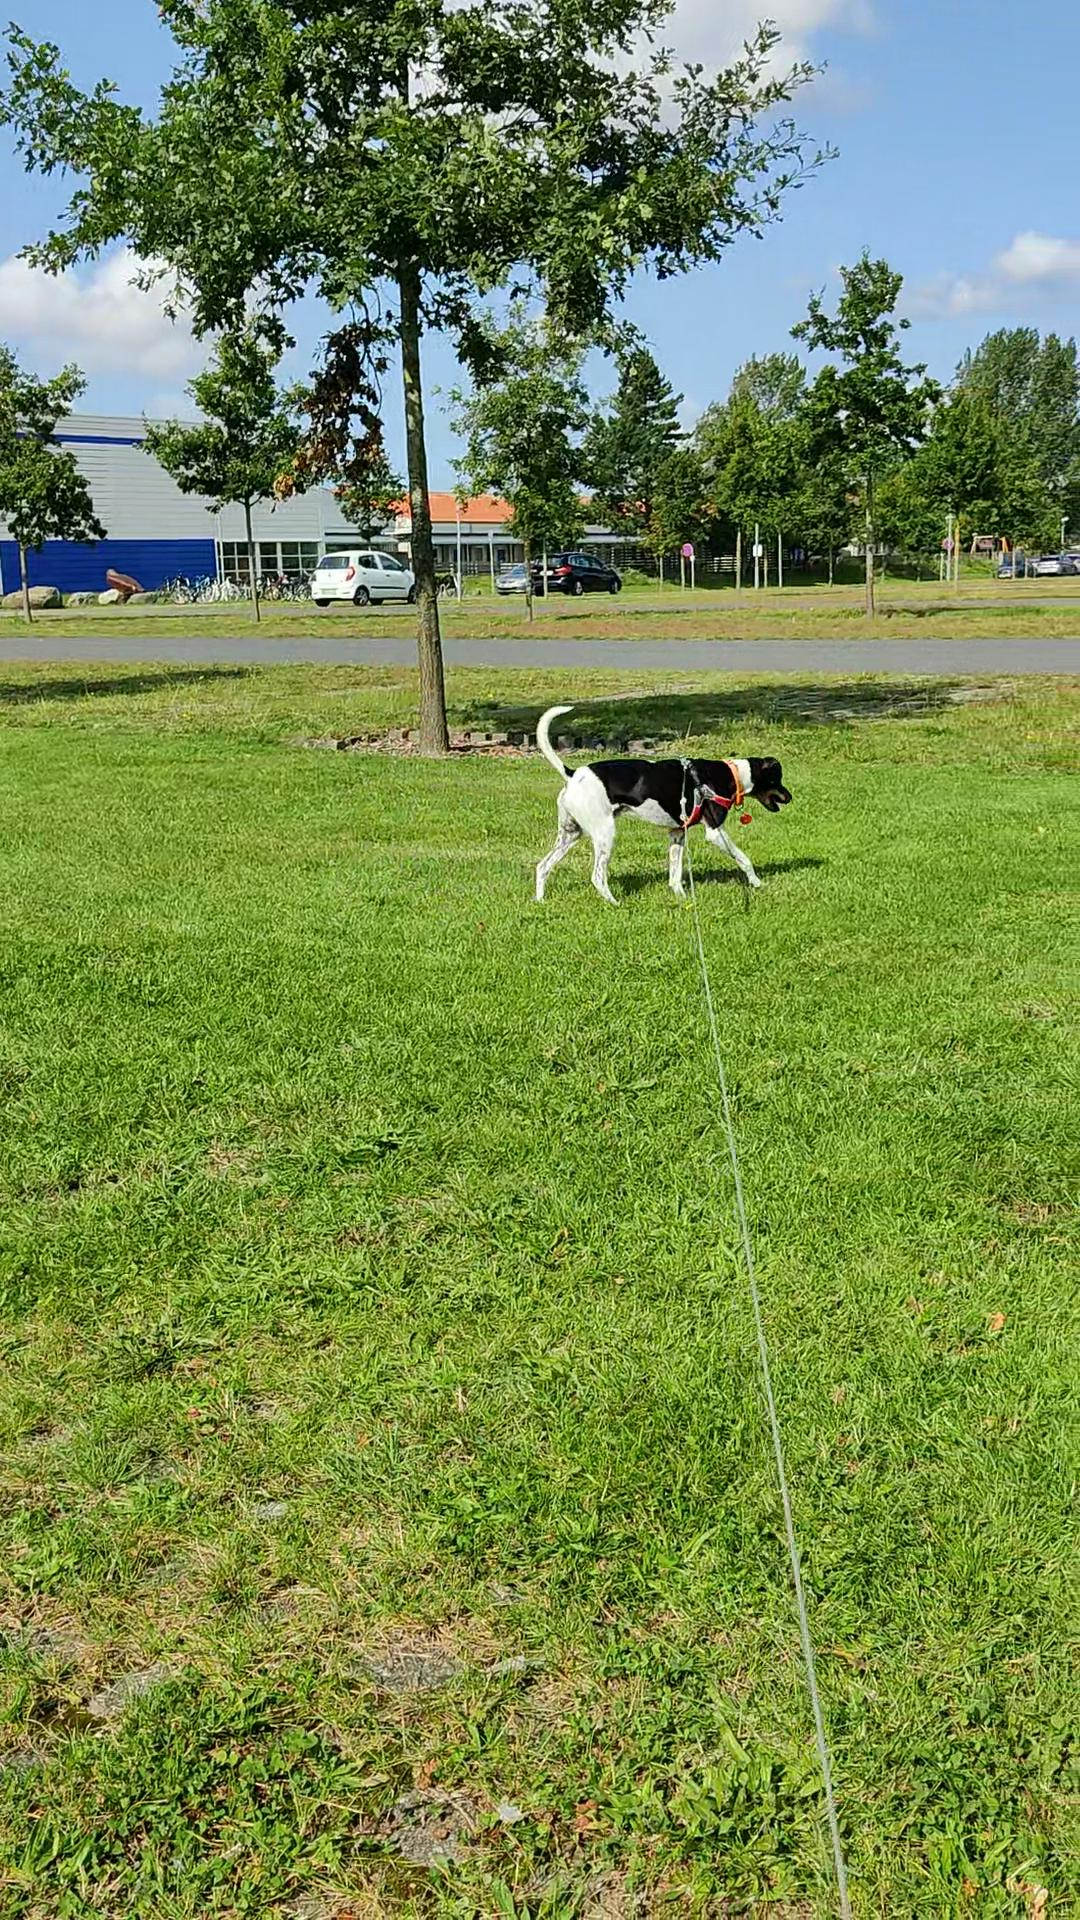Dog: (508, 698, 796, 907)
